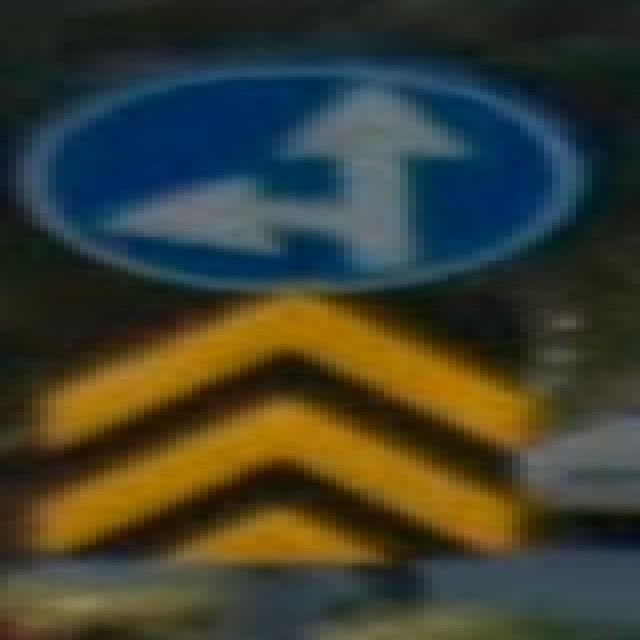Straight or Left: (25, 68, 577, 290)
